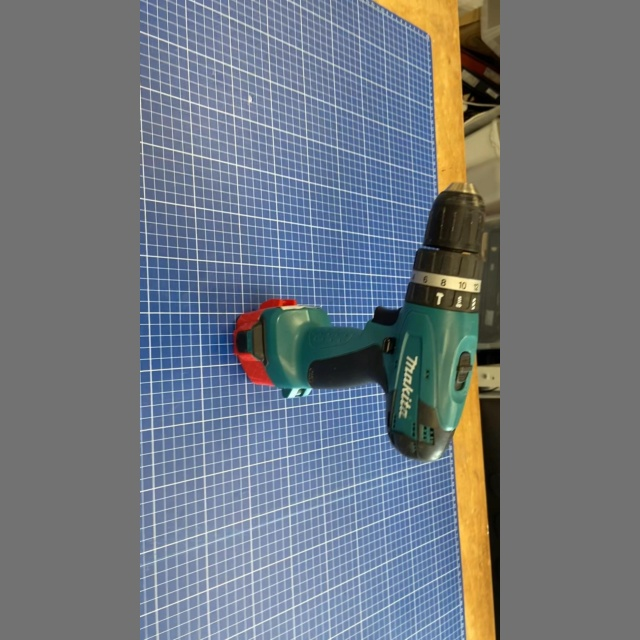drill: (226, 174, 491, 468)
